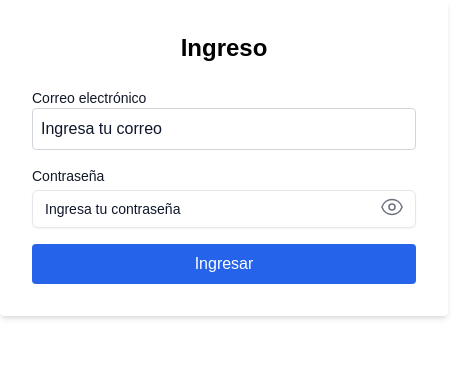
it: LoginForm › hides the loader even if an unknown error occurs
Type "test@example.com" into the field with test id "email" at {"x": 224, "y": 129}, box [32,108,416,150]
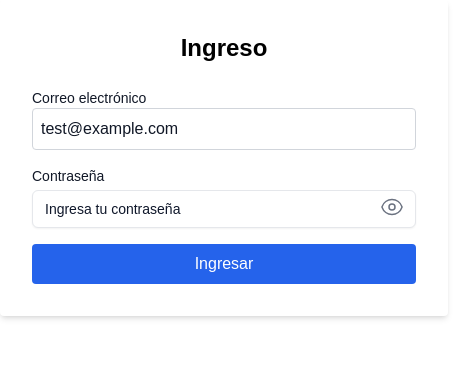
Type "password123" into the password field with test id "password" at {"x": 224, "y": 209}, box [32,190,416,228]
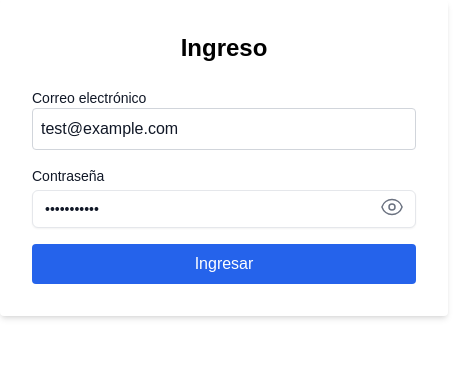
Click the button "Ingresar" at {"x": 224, "y": 264}, box [32,244,416,284]
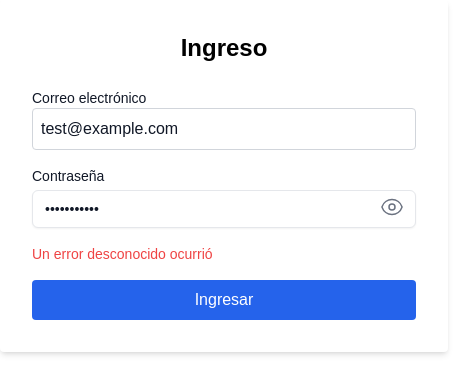
Expected: the text "Un error desconocido ocurrió" is shown, [32,246,212,262]
